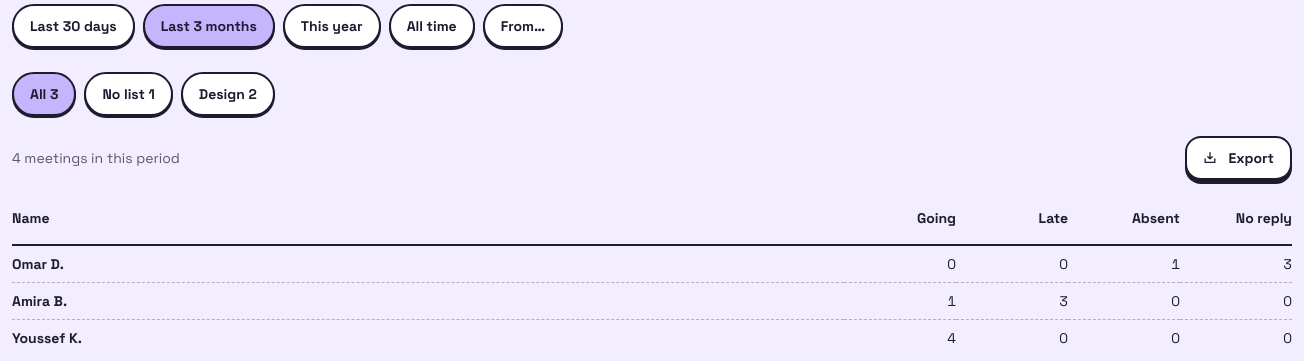
Test: AttendanceView › narrows to a list
Expected: the text "4 meetings in this period" is shown, [12, 148, 180, 168]
What coordinates should you click on to do the following:
click the button "Design 2"
I would click on:
 (228, 94)
Its box is [181, 72, 275, 116].
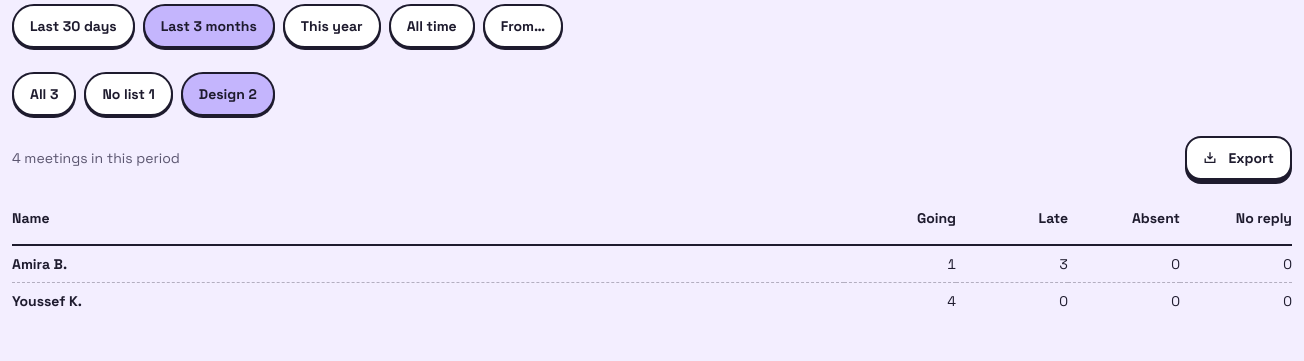
Expected: the button "Amira B." is shown, [12, 254, 67, 274]
Result: the button "Omar D." is gone
